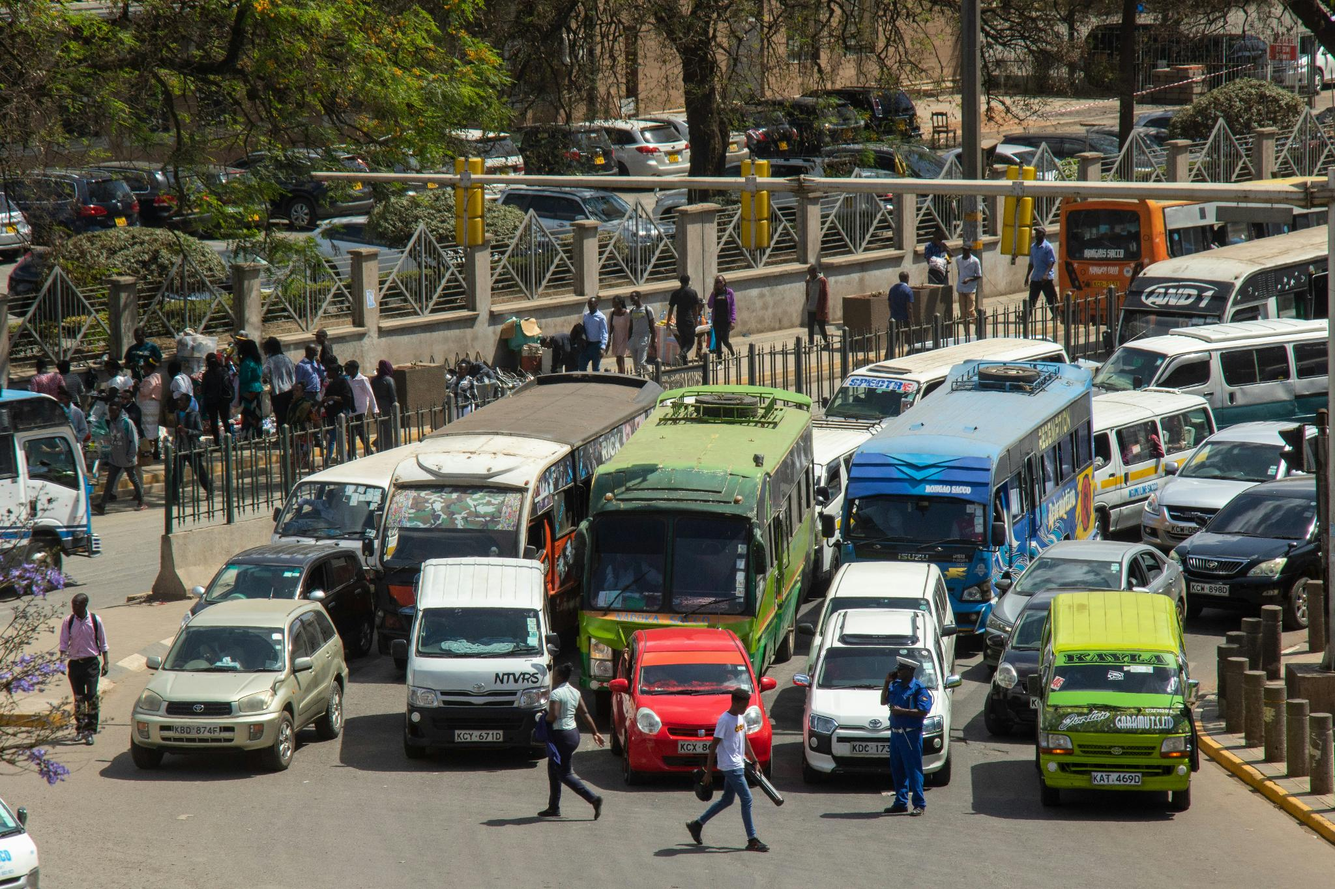car: (1036, 590, 1198, 817), (127, 599, 350, 756), (409, 553, 540, 767), (800, 604, 947, 779), (614, 633, 777, 782), (1170, 493, 1335, 628), (1135, 422, 1281, 549), (601, 111, 693, 176)
pedestrian: (687, 689, 768, 849), (550, 667, 604, 821), (879, 660, 927, 817), (67, 595, 105, 745), (101, 405, 149, 507), (1026, 227, 1057, 319), (140, 357, 166, 465), (239, 339, 265, 434), (626, 289, 656, 368), (579, 296, 609, 372), (296, 348, 328, 419), (267, 341, 293, 428), (805, 264, 829, 344), (885, 272, 922, 322), (956, 244, 982, 315), (324, 360, 353, 422), (711, 276, 731, 351), (33, 365, 68, 397), (176, 394, 198, 429)
